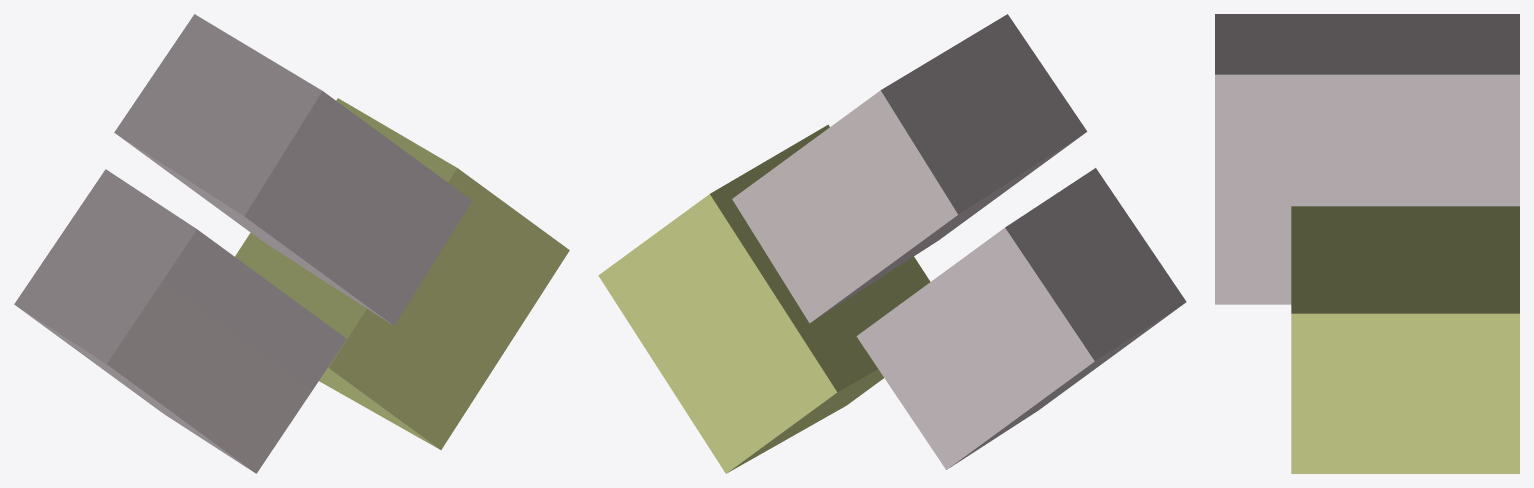
3 views of the same model, side by side, from view 1: azimuth 30°, elevation 25°; view 2: azimuth 150°, elevation 25°; view 3: azimuth 270°, elevation 25° (orthographic). The views are drawn at different scales.
Visible parts, largest first — view 1: 0_1_3_2_2_1_2_1_3_1; view 2: 0_1_3_2_2_1_2_1_3_1; view 3: 0_1_3_2_2_1_2_1_3_1.
Part boxes in pixels (<box>): 0_1_3_2_2_1_2_1_3_1: <box>14,14,569,473</box>; 0_1_3_2_2_1_2_1_3_1: <box>598,14,1186,473</box>; 0_1_3_2_2_1_2_1_3_1: <box>1215,14,1519,473</box>.
Size of the model in its own units: 20.5 by 17.09 by 12.
